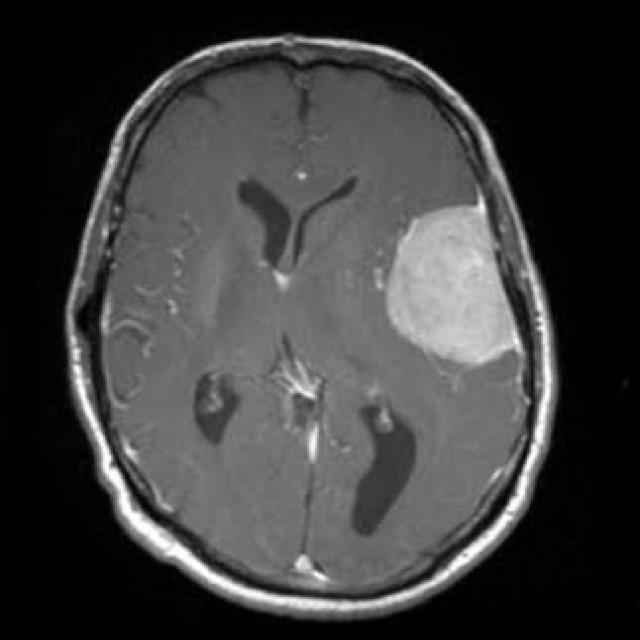brain_tumor: (386, 206, 520, 364)
